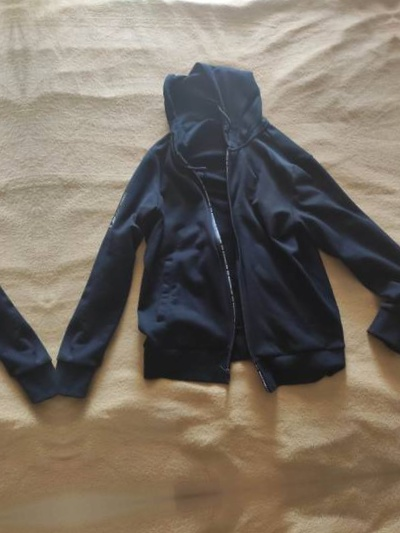Hoodie: (24, 34, 400, 421), (0, 76, 57, 463)
